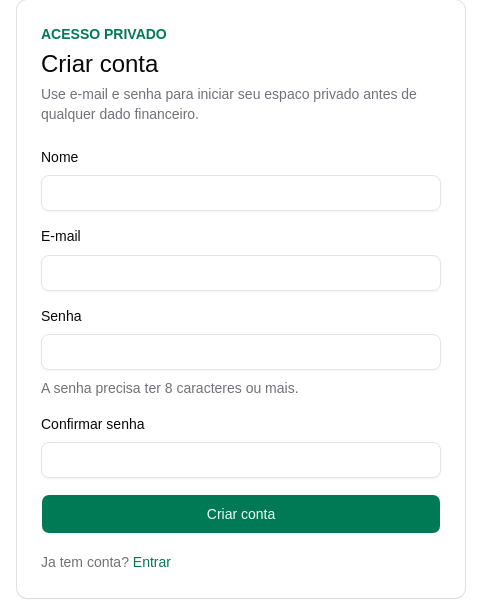
Test case: SignUpPage › validates weak password before signup
Type "Ana" into the field labelled "Nome".
click(241, 193); type("Ana")  # box 41,175 -> 441,211
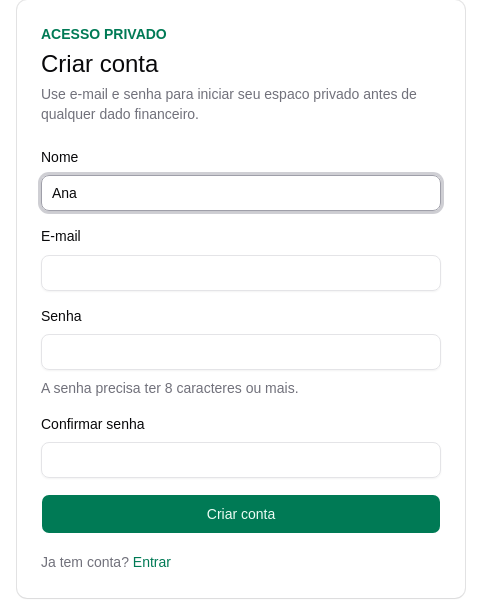
Type "ana@example.com" into the field labelled "E-mail".
click(241, 272); type("ana@example.com")  # box 41,254 -> 441,290
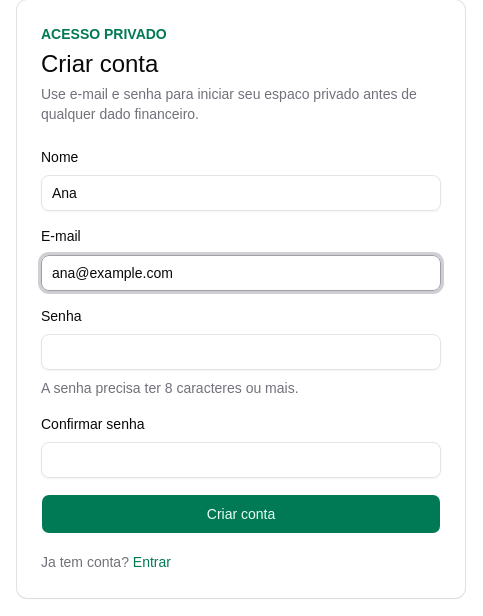
Expected: the text "A senha precisa ter 8 caracteres ou mais." is shown, 41,380 -> 299,396
Type "curta" into the password field labelled "Senha".
click(241, 352); type("curta")  # box 41,334 -> 441,370
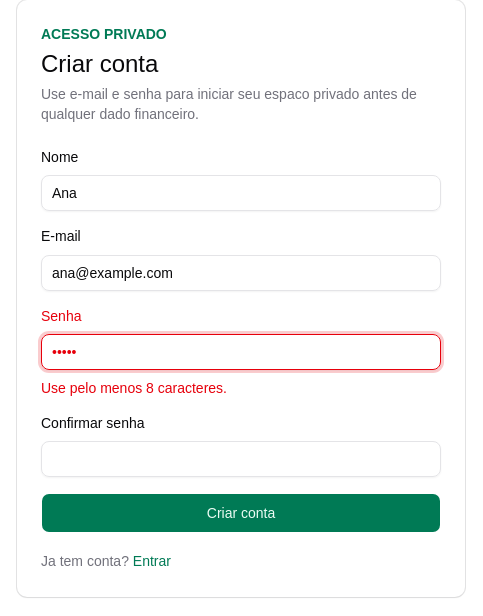
Expected: the message reads "Use pelo menos 8 caracteres.", 41,380 -> 227,396
Expected: the text with id "signup-password-hint" is gone
